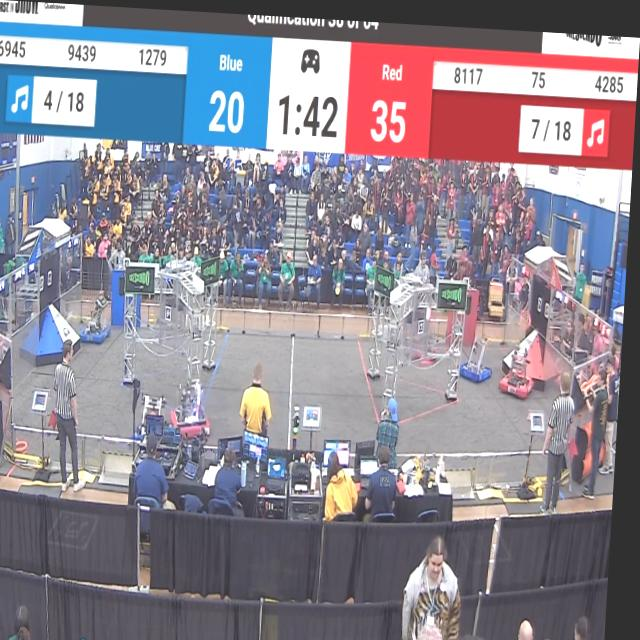Robot: (174, 370, 219, 439), (503, 331, 544, 397), (415, 298, 448, 365), (463, 329, 497, 384), (83, 290, 115, 345), (140, 391, 173, 441)
